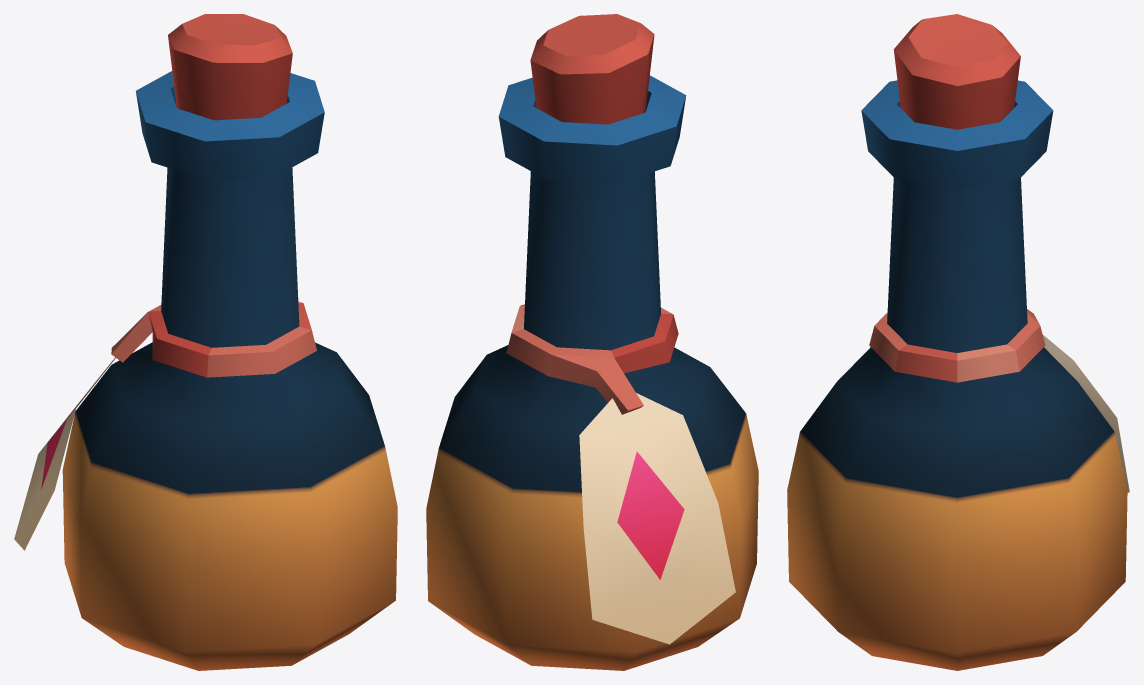
File: Potion_Health2.fbx
3 renders of one model, left to right at view 1: azimuth 30°, elevation 25°; view 2: azimuth 150°, elevation 25°; view 3: azimuth 270°, elevation 25°, orthographic.
Parts seen in each view (by area): view 1: Potion_Health2; view 2: Potion_Health2; view 3: Potion_Health2.
Part boxes in pixels (left/top/right/bottom): Potion_Health2: left=14, top=14, right=397, bottom=670; Potion_Health2: left=426, top=14, right=758, bottom=670; Potion_Health2: left=787, top=14, right=1129, bottom=670.
Size of the model in its own units: 38.97 by 67.6 by 35.65.
